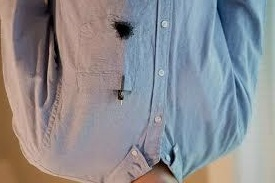ink: (113, 22, 132, 39)
